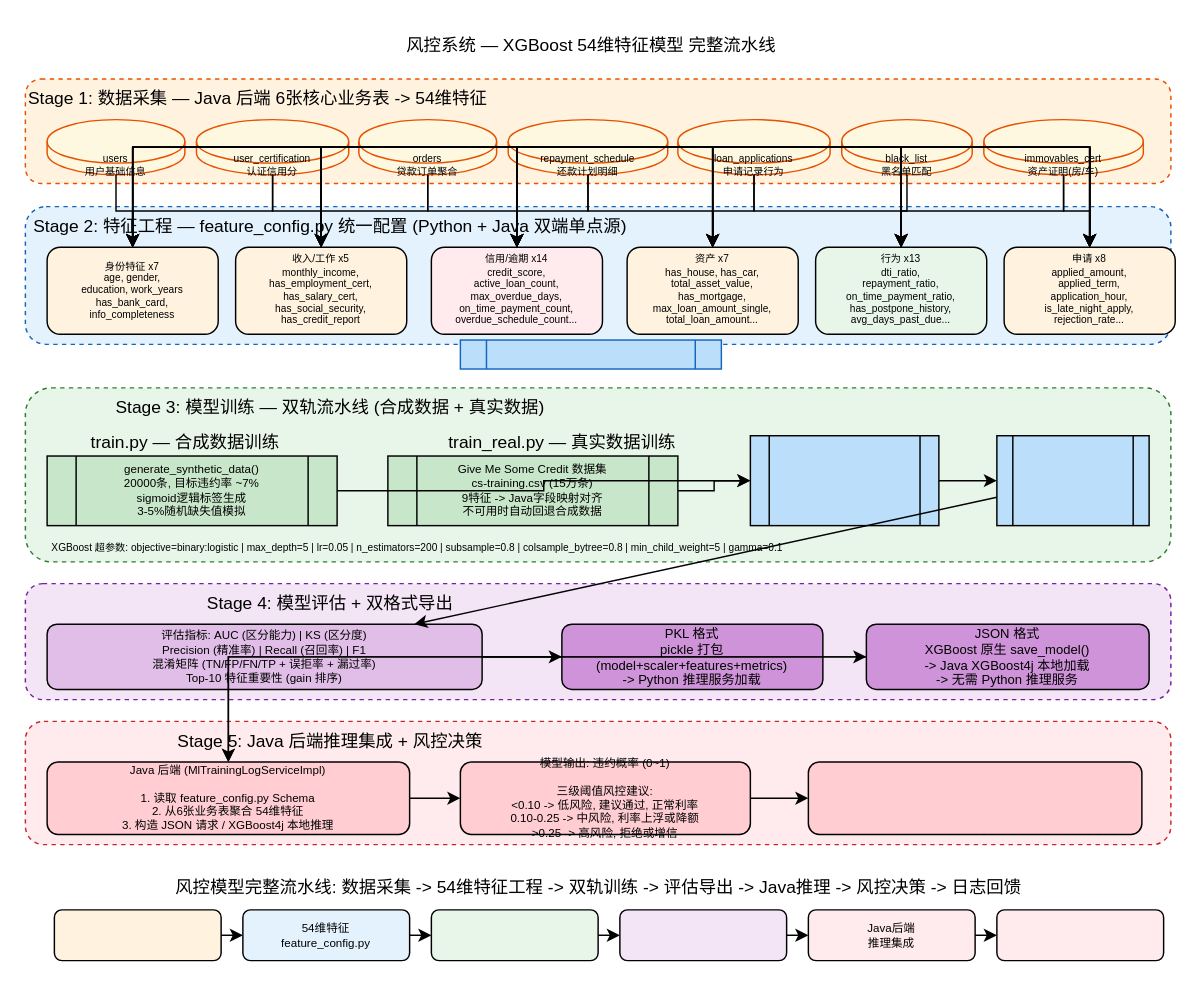
This 1201x986 diagram has some shape labels left out. Here are the shapes that lost their labels. From the top down, the box of each, then its label:
(459, 339, 721, 369): 共计 54 维特征 (GMS 9 + Java 48 + Derived 4)
(749, 434, 939, 526): 特征工程 缺失值填充 4衍生特征创建 StandardScaler 80/20分层划分
(995, 434, 1149, 526): XGBoost 训练 max_depth=5 lr=0.05 200 estimators reg_alpha=0.1 reg_lambda=1.0
(807, 761, 1142, 834): 风控日志 (ml_training_log) 记录: user_id, 54维特征快照, 违约概率, 风控建议, 时间戳 -> 后续模型迭代的标注数据
(53, 908, 221, 961): 6张业务表 特征采集
(430, 908, 598, 961): 合成+真实 双轨训练
(618, 908, 787, 961): AUC/KS评估 PKL+JSON导出
(995, 908, 1164, 961): 3级阈值 风控决策
